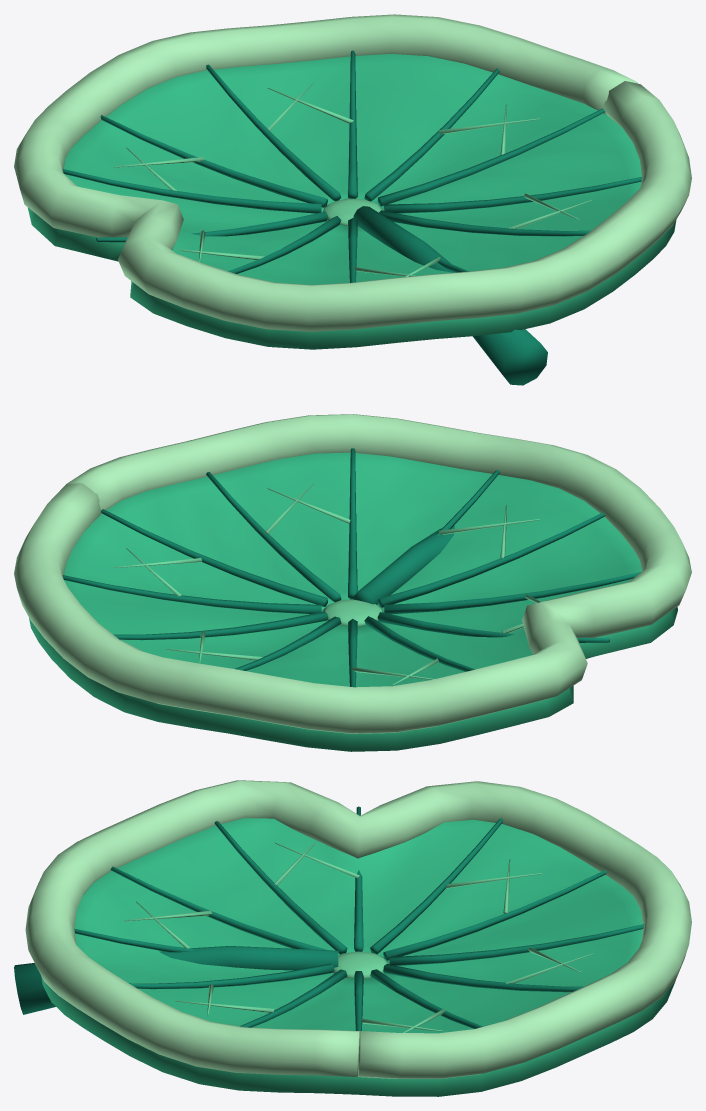
Rendered from jelly-lilypad.glb.
The picture shows the model from 3 angles, top to bottom: view 1: azimuth 30°, elevation 25°; view 2: azimuth 150°, elevation 25°; view 3: azimuth 270°, elevation 25°; orthographic projection.
Visible parts, largest first — view 1: Concave jelly lilypad surface, Rolled translucent lilypad rim, Lilypad petiole, Lilypad radial jelly vein.007, Lilypad radial jelly vein.001, Lilypad radial jelly vein, Lilypad radial jelly vein.008, Lilypad radial jelly vein.002, Lilypad radial jelly vein.009, Lilypad radial jelly vein.011, Lilypad radial jelly vein.006, Lilypad radial jelly vein.010 (+2 smaller); view 2: Concave jelly lilypad surface, Rolled translucent lilypad rim, Lilypad petiole, Lilypad radial jelly vein.011, Lilypad radial jelly vein.005, Lilypad radial jelly vein.004, Lilypad radial jelly vein, Lilypad radial jelly vein.010, Lilypad radial jelly vein.001, Lilypad radial jelly vein.006, Lilypad radial jelly vein.002, Lilypad central dimple (+3 smaller); view 3: Concave jelly lilypad surface, Rolled translucent lilypad rim, Lilypad petiole, Lilypad radial jelly vein.009, Lilypad radial jelly vein.008, Lilypad radial jelly vein.002, Lilypad radial jelly vein.010, Lilypad radial jelly vein.004, Lilypad radial jelly vein.007, Lilypad radial jelly vein.005, Lilypad central dimple, Lilypad radial jelly vein.011 (+4 smaller).
Part boxes in pixels (x1=…): Concave jelly lilypad surface: x1=27, y1=54, x2=676, y2=349; Rolled translucent lilypad rim: x1=14, y1=14, x2=691, y2=331; Lilypad petiole: x1=353, y1=206, x2=547, y2=385; Lilypad radial jelly vein.007: x1=62, y1=169, x2=321, y2=213; Lilypad radial jelly vein.001: x1=384, y1=177, x2=642, y2=213; Lilypad radial jelly vein: x1=377, y1=108, x2=605, y2=206; Lilypad radial jelly vein.008: x1=100, y1=115, x2=327, y2=207; Lilypad radial jelly vein.002: x1=379, y1=210, x2=590, y2=236; Lilypad radial jelly vein.009: x1=206, y1=64, x2=341, y2=201; Lilypad radial jelly vein.011: x1=364, y1=68, x2=499, y2=201; Lilypad radial jelly vein.006: x1=96, y1=211, x2=327, y2=242; Lilypad radial jelly vein.010: x1=348, y1=50, x2=357, y2=198; Concave jelly lilypad surface: x1=29, y1=452, x2=677, y2=751; Rolled translucent lilypad rim: x1=14, y1=414, x2=691, y2=733; Lilypad petiole: x1=353, y1=525, x2=454, y2=604; Lilypad radial jelly vein.011: x1=62, y1=575, x2=321, y2=613; Lilypad radial jelly vein.005: x1=384, y1=572, x2=641, y2=614; Lilypad radial jelly vein.004: x1=377, y1=512, x2=605, y2=607; Lilypad radial jelly vein: x1=101, y1=509, x2=327, y2=606; Lilypad radial jelly vein.010: x1=113, y1=611, x2=327, y2=640; Lilypad radial jelly vein.001: x1=206, y1=472, x2=341, y2=602; Lilypad radial jelly vein.006: x1=377, y1=612, x2=609, y2=642; Lilypad radial jelly vein.002: x1=348, y1=448, x2=357, y2=599; Lilypad central dimple: x1=322, y1=599, x2=382, y2=626; Concave jelly lilypad surface: x1=41, y1=818, x2=675, y2=1096; Rolled translucent lilypad rim: x1=25, y1=780, x2=691, y2=1078; Lilypad petiole: x1=14, y1=946, x2=338, y2=1014; Lilypad radial jelly vein.009: x1=389, y1=924, x2=644, y2=965; Lilypad radial jelly vein.008: x1=383, y1=870, x2=606, y2=960; Lilypad radial jelly vein.002: x1=129, y1=963, x2=334, y2=989; Lilypad radial jelly vein.010: x1=383, y1=964, x2=583, y2=992; Lilypad radial jelly vein.004: x1=110, y1=866, x2=327, y2=950; Lilypad radial jelly vein.007: x1=370, y1=818, x2=502, y2=954; Lilypad radial jelly vein.005: x1=214, y1=821, x2=347, y2=954; Lilypad central dimple: x1=333, y1=951, x2=387, y2=978; Lilypad radial jelly vein.011: x1=370, y1=969, x2=483, y2=1028.
Bounding box in the file's own units: 2.49 × 0.4807 × 2.63.
